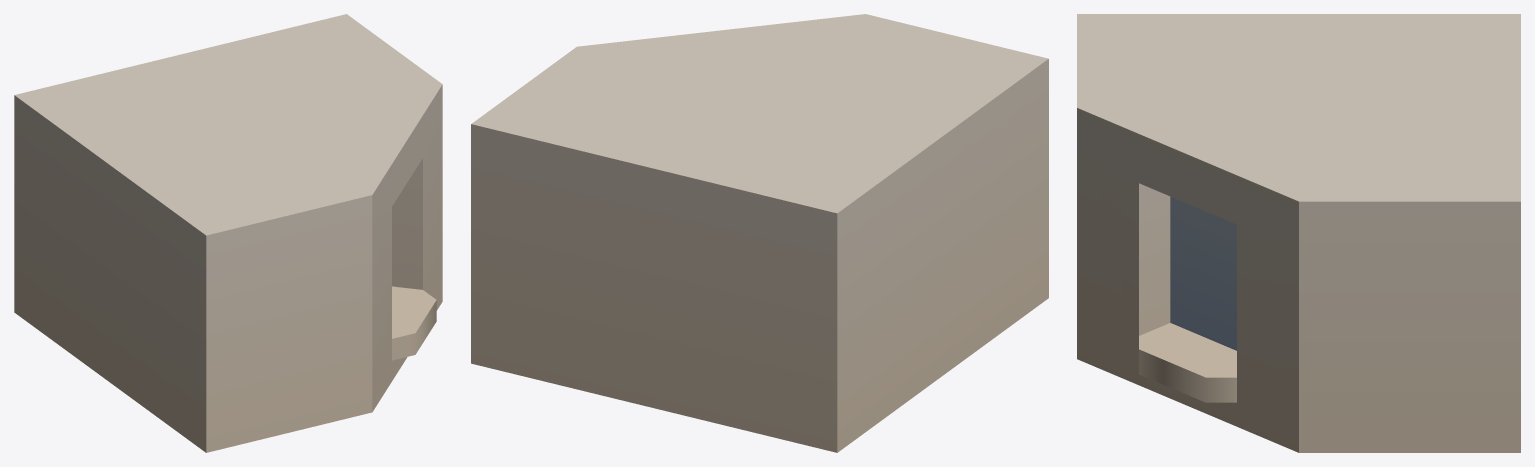
File: building-corner-window-sill.glb
The picture shows the model from 3 angles, left to right: view 1: azimuth 30°, elevation 25°; view 2: azimuth 150°, elevation 25°; view 3: azimuth 270°, elevation 25°; orthographic projection. The views are drawn at different scales.
Parts seen in each view (by area): view 1: building-corner-window-sill; view 2: building-corner-window-sill; view 3: building-corner-window-sill.
Boxes of the visible parts, box(x1,y1,x2,y2) form: building-corner-window-sill: box(14, 14, 442, 452); building-corner-window-sill: box(471, 14, 1048, 452); building-corner-window-sill: box(1077, 14, 1520, 452).
Size of the model in its own units: 1 by 0.625 by 1.
